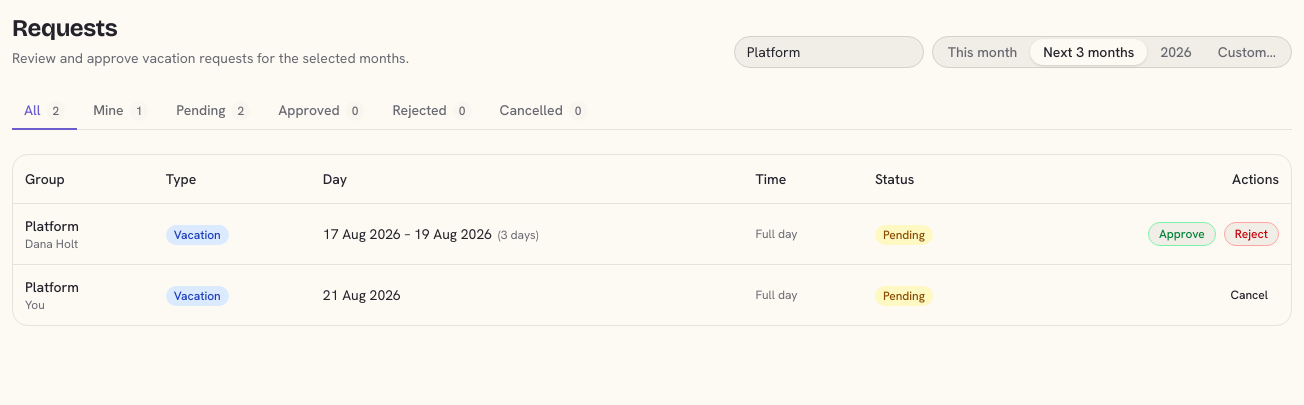
Test case: RequestsPage action errors › translates the conflict when someone else cancelled the request first
This screenshot has width=1304, height=405.
Click the button "Cancel" at x=1249, y=294, box [1219,282,1279,306]
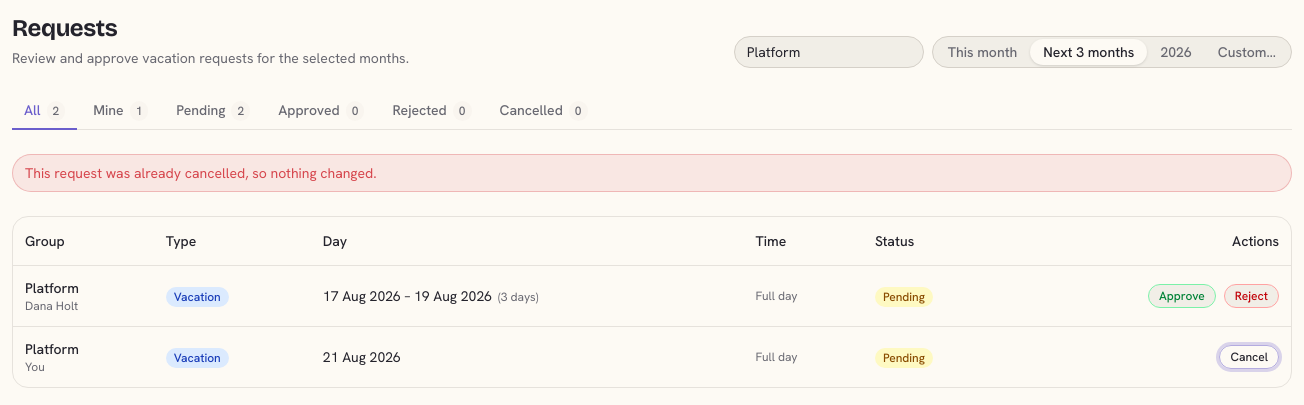
Result: the message reads "This request was already cancelled, so nothing changed." at [25,164,377,182]
